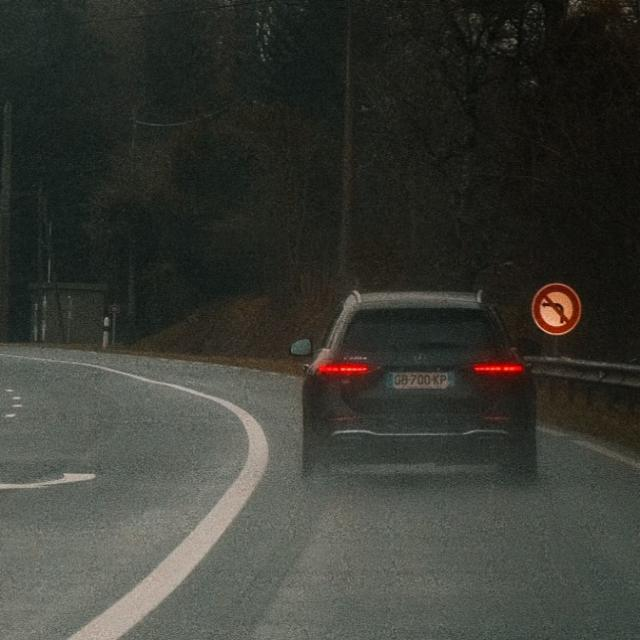car: (292, 287, 540, 478)
